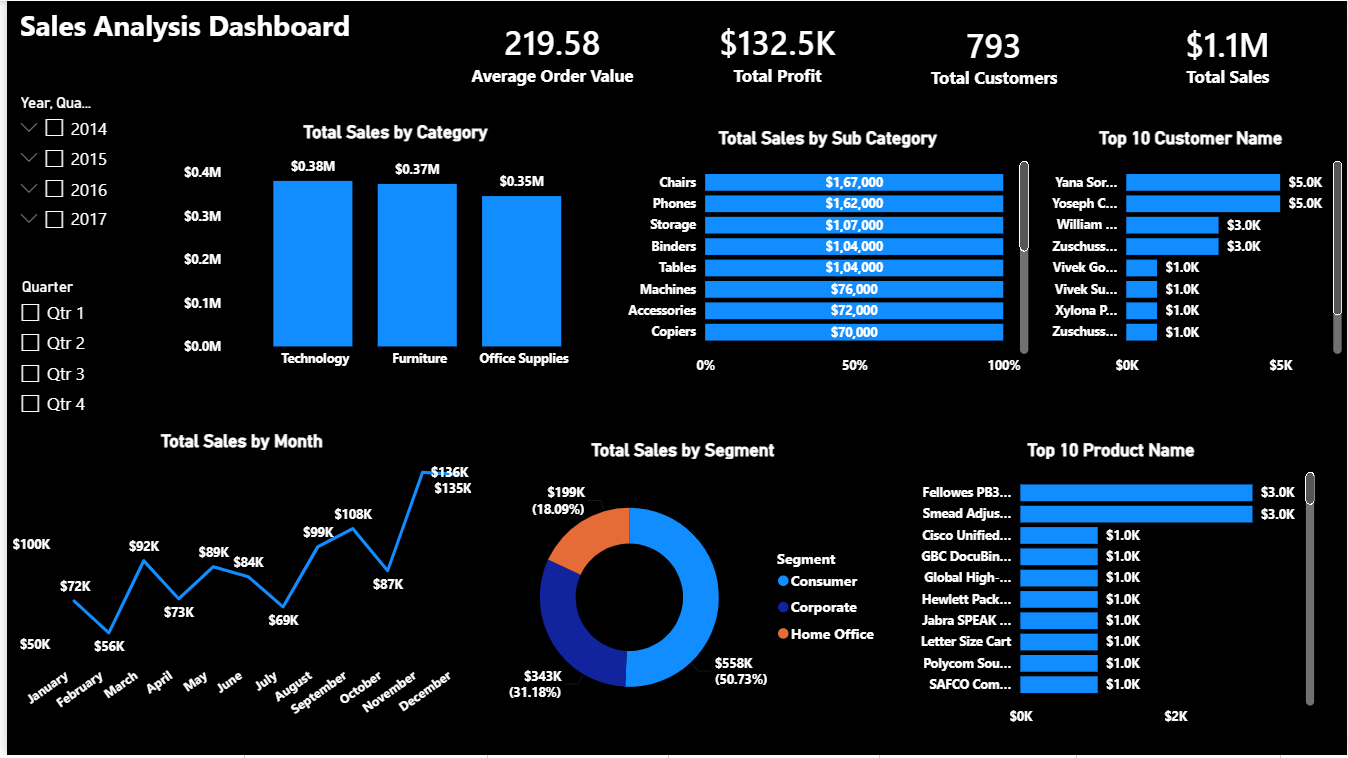

Layout of this report page (visuals, bound fields, positions):
{"tool":"powerbi","page":{"name":"2.  Sales Analysis Dashboard","canvas":[1280,720],"ordinal":1},"visuals":[{"type":"lineChart","fields":{"Category":["Sample - Superstore.Order Date.Variation.Date Hierarchy.Month"],"Y":["KPI Metrics.Total Sales"]},"box":[0,410,448.8,292.5],"z":0},{"type":"columnChart","fields":{"Category":["Sample - Superstore.Category"],"Y":["KPI Metrics.Total Sales"]},"box":[163.8,115,415,245],"z":1000},{"type":"hundredPercentStackedBarChart","fields":{"Category":["Sample - Superstore.Sub Category"],"Y":["KPI Metrics.Total Sales"]},"box":[587.5,121.2,393.8,245],"z":2000},{"type":"barChart","title":"Top 10 Product Name","fields":{"Y":["KPI Metrics.Total Sales"],"Category":["Sample - Superstore.Product Name"]},"box":[855,418.8,398.8,283.8],"z":3000},{"type":"barChart","title":"Top 10 Customer Name","fields":{"Category":["Sample - Superstore.Customer Name"],"Y":["KPI Metrics.Total Sales"]},"box":[981.2,121.2,298.8,245],"z":4000},{"type":"donutChart","fields":{"Category":["Sample - Superstore.Segment"],"Y":["KPI Metrics.Total Sales"]},"box":[448.8,418.8,393.8,283.8],"z":5000},{"type":"textbox","box":[0,0,361.2,51.2],"z":6000},{"type":"cardVisual","fields":{"Data":["KPI Metrics.Total Profit"]},"box":[640,0,191.2,98.8],"z":7000},{"type":"cardVisual","fields":{"Data":["KPI Metrics.Total Customers"]},"box":[842.5,2.5,202.5,98.8],"z":8000},{"type":"cardVisual","fields":{"Data":["KPI Metrics.Total Sales"]},"box":[1067.5,1.2,197.5,98.8],"z":9000},{"type":"slicer","fields":{"Values":["Sample - Superstore.Order Date.Variation.Date Hierarchy.Year","Sample - Superstore.Order Date.Variation.Date Hierarchy.Quarter","Sample - Superstore.Order Date.Variation.Date Hierarchy.Month","Sample - Superstore.Order Date.Variation.Date Hierarchy.Day"]},"box":[0,83.8,106.2,153.8],"z":10000},{"type":"slicer","fields":{"Values":["Sample - Superstore.Order Date.Variation.Date Hierarchy.Quarter"]},"box":[1.2,260,106.2,150],"z":11000},{"type":"cardVisual","fields":{"Data":["KPI Metrics.Average Order Value"]},"box":[395,0,251.2,98.8],"z":12000}]}

Visuals, with their boxes in screenshot pixels (x1, y1, x2, y2), scaled from the page's 1280x720 canvas onto the 1348x758 screenshot:
lineChart - Sample - Superstore.Order Date.Variation.Date Hierarchy.Month x KPI Metrics.Total Sales: [left=0, top=432, right=473, bottom=740]
columnChart - Sample - Superstore.Category x KPI Metrics.Total Sales: [left=173, top=121, right=610, bottom=379]
hundredPercentStackedBarChart - Sample - Superstore.Sub Category x KPI Metrics.Total Sales: [left=619, top=128, right=1033, bottom=386]
"Top 10 Product Name" barChart: [left=900, top=441, right=1320, bottom=740]
"Top 10 Customer Name" barChart: [left=1033, top=128, right=1347, bottom=386]
donutChart - Sample - Superstore.Segment x KPI Metrics.Total Sales: [left=473, top=441, right=887, bottom=740]
textbox: [left=0, top=0, right=380, bottom=54]
cardVisual - KPI Metrics.Total Profit: [left=674, top=0, right=875, bottom=104]
cardVisual - KPI Metrics.Total Customers: [left=887, top=3, right=1101, bottom=107]
cardVisual - KPI Metrics.Total Sales: [left=1124, top=1, right=1332, bottom=105]
slicer - Sample - Superstore.Order Date.Variation.Date Hierarchy.Year x Sample - Superstore.Order Date.Variation.Date Hierarchy.Quarter: [left=0, top=88, right=112, bottom=250]
slicer - Sample - Superstore.Order Date.Variation.Date Hierarchy.Quarter: [left=1, top=274, right=113, bottom=432]
cardVisual - KPI Metrics.Average Order Value: [left=416, top=0, right=681, bottom=104]
